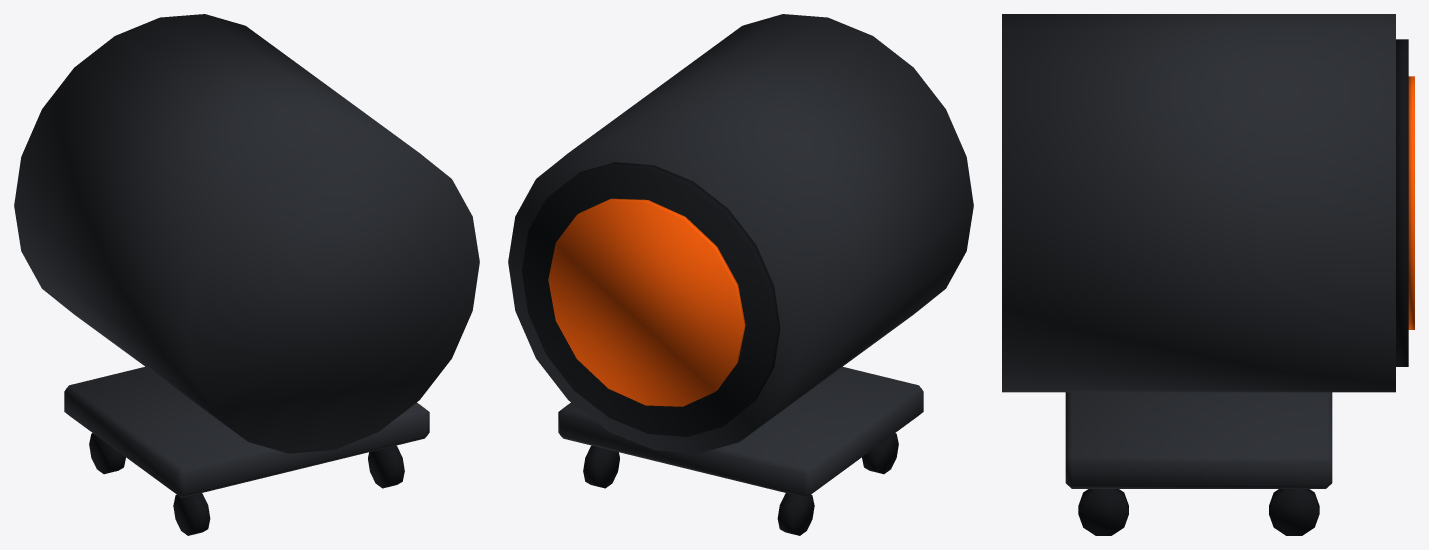
File: heater_fan.glb
3 renders of one model, left to right at view 1: azimuth 30°, elevation 25°; view 2: azimuth 150°, elevation 25°; view 3: azimuth 270°, elevation 25°, orthographic. The views are drawn at different scales.
Parts seen in each view (by area): view 1: heater_fan__prop_dark, heater_fan__prop_black; view 2: heater_fan__prop_dark, heater_fan__prop_orange, heater_fan__prop_black; view 3: heater_fan__prop_dark, heater_fan__prop_black, heater_fan__prop_orange.
Boxes of the visible parts, left/top/right/bottom form: heater_fan__prop_dark: left=14, top=14, right=479, bottom=497; heater_fan__prop_black: left=89, top=433, right=404, bottom=535; heater_fan__prop_dark: left=508, top=14, right=973, bottom=497; heater_fan__prop_orange: left=548, top=198, right=745, bottom=406; heater_fan__prop_black: left=522, top=162, right=898, bottom=535; heater_fan__prop_dark: left=1002, top=14, right=1395, bottom=488; heater_fan__prop_black: left=1078, top=39, right=1408, bottom=535; heater_fan__prop_orange: left=1408, top=76, right=1414, bottom=329.
Bounding box in the file's own units: 0.6 × 0.778 × 0.65.
